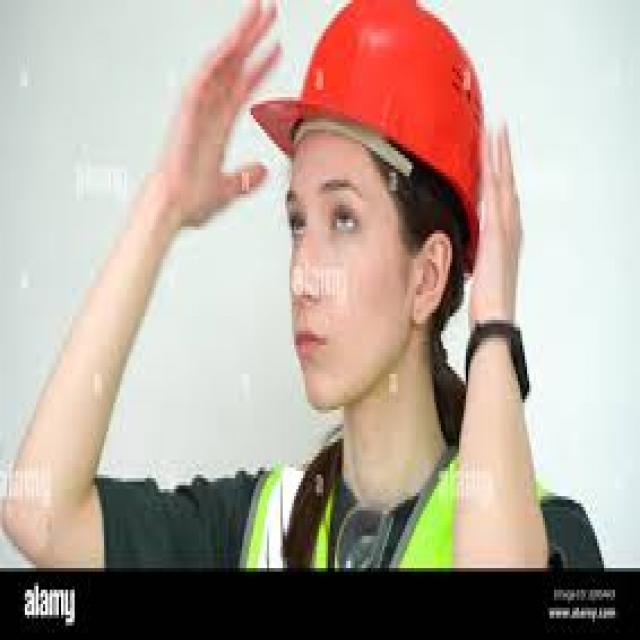Reflective-Jacket: (238, 381, 556, 575)
Safety-Helmet: (256, 3, 504, 241)
